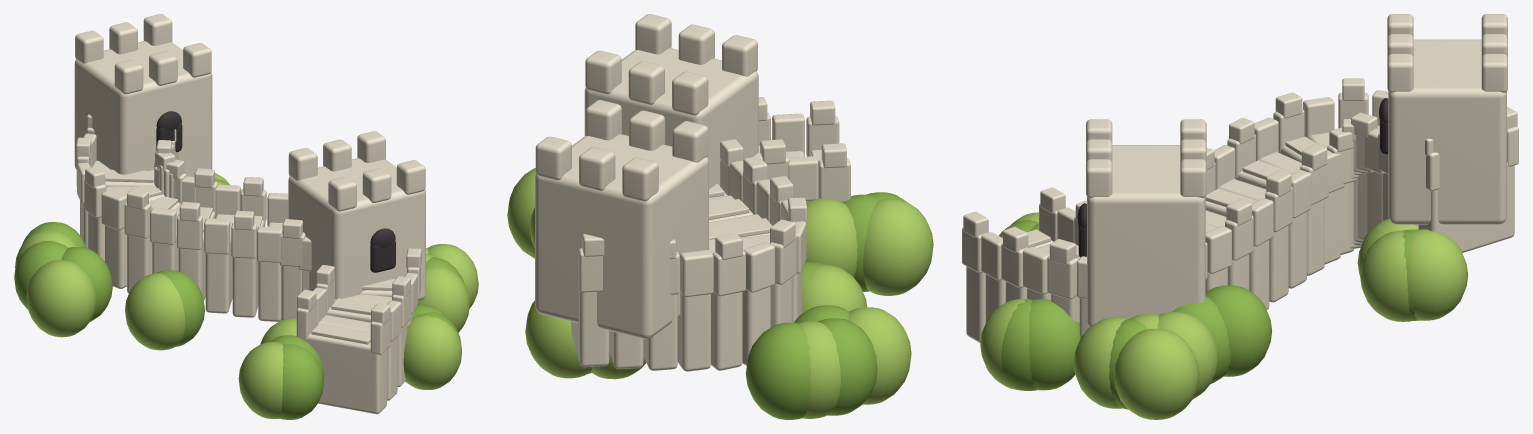
Rendered from great-wall.glb.
3 renders of one model, left to right at view 1: azimuth 30°, elevation 25°; view 2: azimuth 150°, elevation 25°; view 3: azimuth 270°, elevation 25°, orthographic. The views are drawn at different scales.
Visible parts, largest first — view 1: Ivory stone, Leaves light, Leaves, Charcoal; view 2: Ivory stone, Leaves light, Leaves; view 3: Ivory stone, Leaves light, Leaves, Charcoal.
Part boxes in pixels (left/top/right/bottom): Ivory stone: left=74, top=14, right=425, bottom=414; Leaves light: left=15, top=173, right=478, bottom=418; Leaves: left=14, top=178, right=465, bottom=419; Charcoal: left=156, top=111, right=395, bottom=272; Ivory stone: left=535, top=14, right=850, bottom=371; Leaves light: left=507, top=168, right=933, bottom=418; Leaves: left=587, top=192, right=905, bottom=419; Ivory stone: left=962, top=14, right=1518, bottom=342; Leaves light: left=980, top=212, right=1468, bottom=419; Leaves: left=999, top=220, right=1419, bottom=409; Charcoal: left=1077, top=98, right=1388, bottom=257.
Size of the model in its own units: 4.89 by 3 by 5.26.
